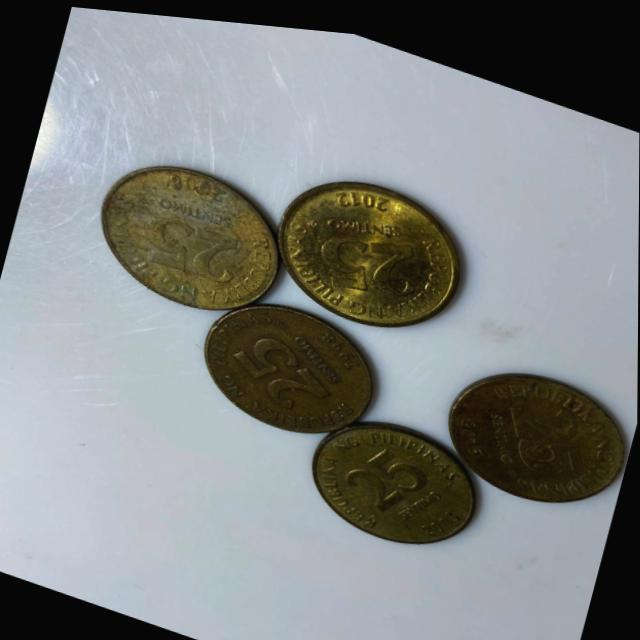25Cent_Old_Front: (492, 378, 591, 473), (230, 321, 335, 410), (132, 201, 240, 287), (350, 430, 438, 516)
